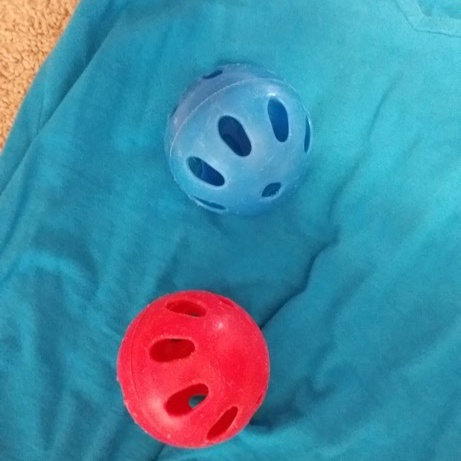ball: (158, 56, 323, 222), (112, 284, 274, 452)
